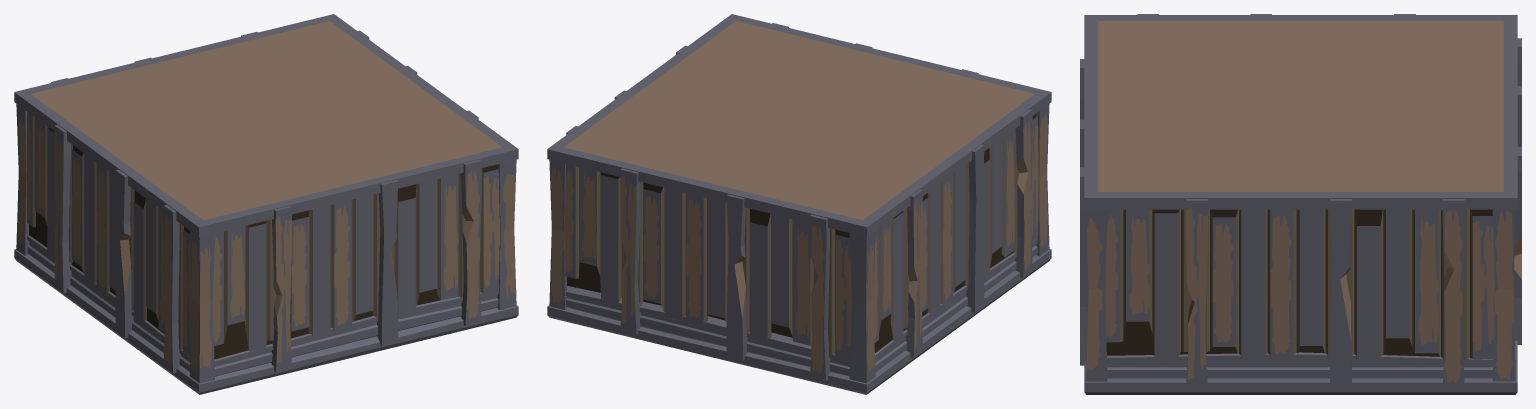
File: SM_Bld_Shanty_Room_02.fbx
3 views of the same model, side by side, from view 1: azimuth 30°, elevation 25°; view 2: azimuth 150°, elevation 25°; view 3: azimuth 270°, elevation 25° (orthographic). The views are drawn at different scales.
Visible parts, largest first — view 1: SM_Bld_Shanty_Room_02; view 2: SM_Bld_Shanty_Room_02; view 3: SM_Bld_Shanty_Room_02.
Boxes of the visible parts, x1,y1,x2,y2 form: SM_Bld_Shanty_Room_02: [14, 14, 518, 394]; SM_Bld_Shanty_Room_02: [547, 14, 1051, 394]; SM_Bld_Shanty_Room_02: [1080, 14, 1521, 394].
Size of the model in its own units: 5.1 by 2.52 by 5.1.
